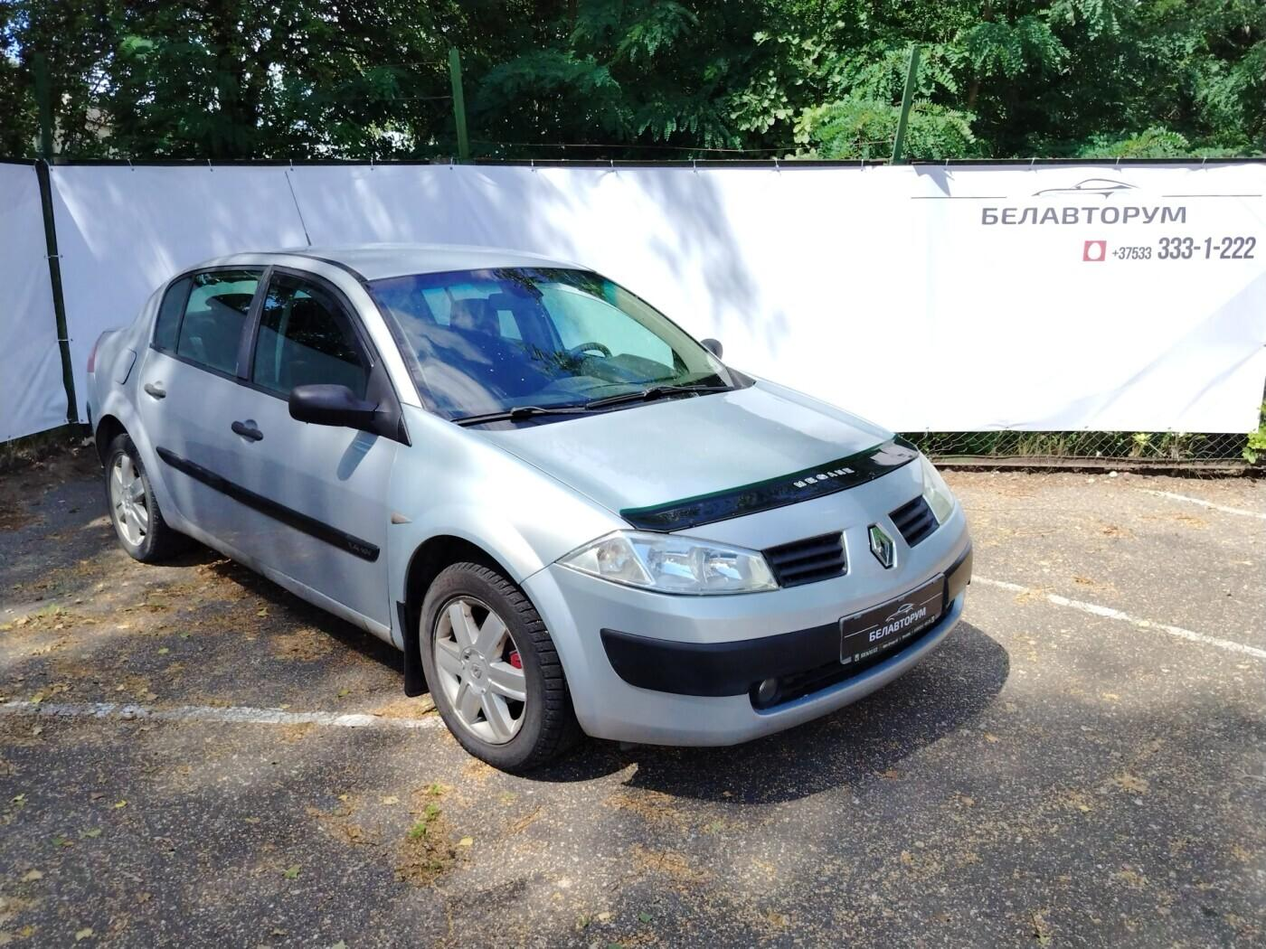Megane_2002-2006: (85, 238, 968, 786)
